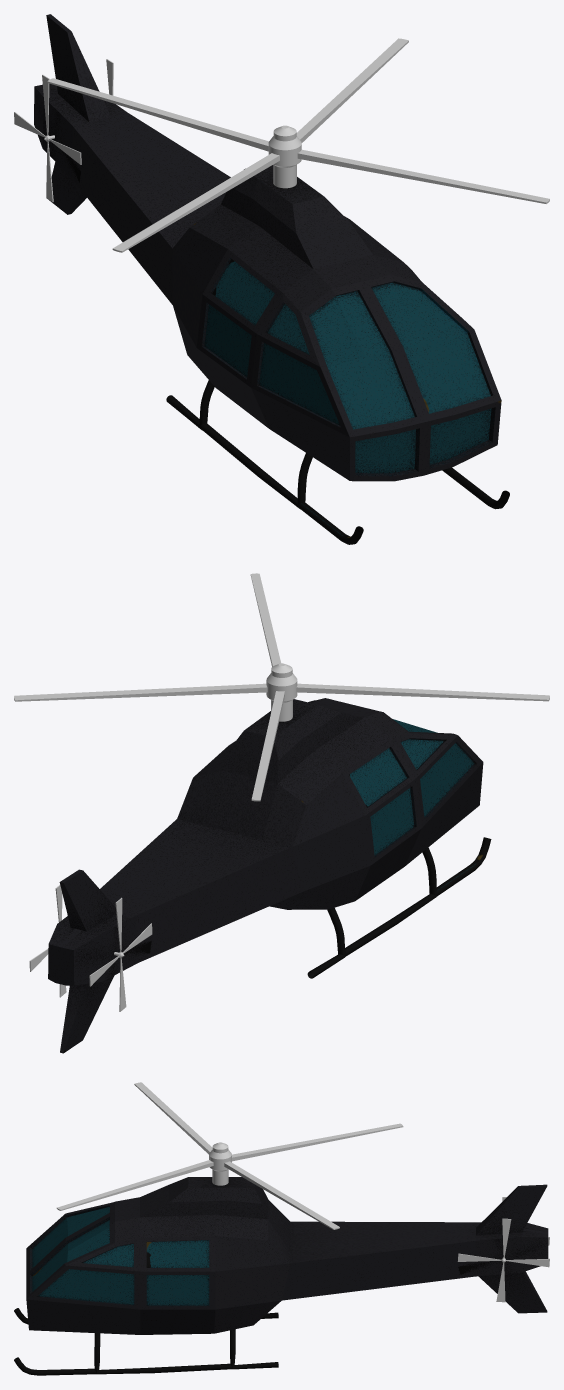
Rendered from anim_000016.obj.
3 views of the same model, one above another, from view 1: azimuth 30°, elevation 25°; view 2: azimuth 150°, elevation 25°; view 3: azimuth 270°, elevation 25° (orthographic). The views are drawn at different scales.
Parts seen in each view (by area): view 1: Helicopter.007_Cylinder.008, Helicopter.001_Cylinder.001, Helicopter.004_Cylinder.005; view 2: Helicopter.007_Cylinder.008, Helicopter.001_Cylinder.001, Helicopter.004_Cylinder.005; view 3: Helicopter.007_Cylinder.008, Helicopter.001_Cylinder.001, Helicopter.003_Cylinder.004.
Part boxes in pixels (<box>): Helicopter.007_Cylinder.008: <box>34,14,509,544</box>; Helicopter.001_Cylinder.001: <box>47,38,549,252</box>; Helicopter.004_Cylinder.005: <box>14,74,81,201</box>; Helicopter.007_Cylinder.008: <box>48,698,491,1053</box>; Helicopter.001_Cylinder.001: <box>14,573,549,801</box>; Helicopter.004_Cylinder.005: <box>89,897,152,1011</box>; Helicopter.007_Cylinder.008: <box>14,1177,548,1375</box>; Helicopter.001_Cylinder.001: <box>56,1082,403,1229</box>; Helicopter.003_Cylinder.004: <box>457,1218,549,1302</box>.
Bounding box in the file's own units: 4.87 × 3.21 × 7.51.
